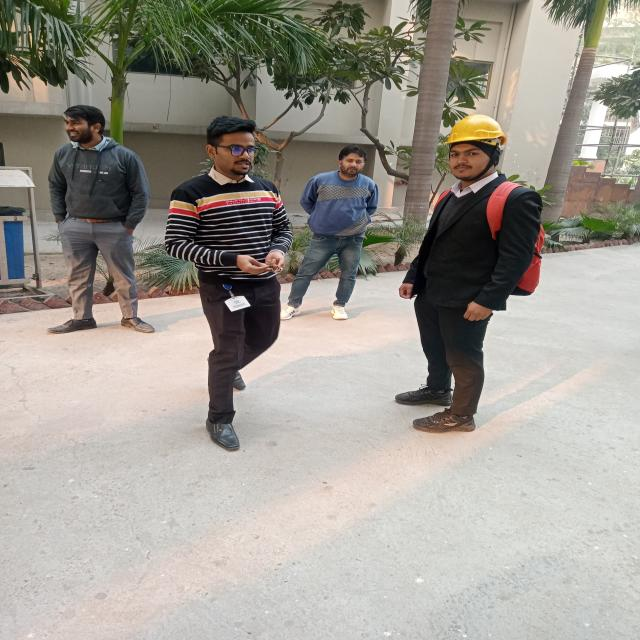no jacket: (397, 114, 532, 436)
unsafe: (150, 110, 292, 450), (36, 95, 159, 342), (294, 128, 370, 326)
